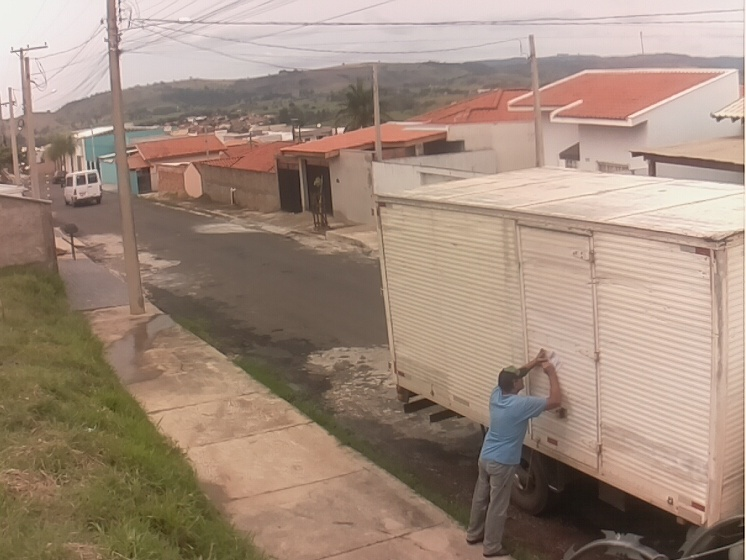person: (464, 347, 561, 560)
